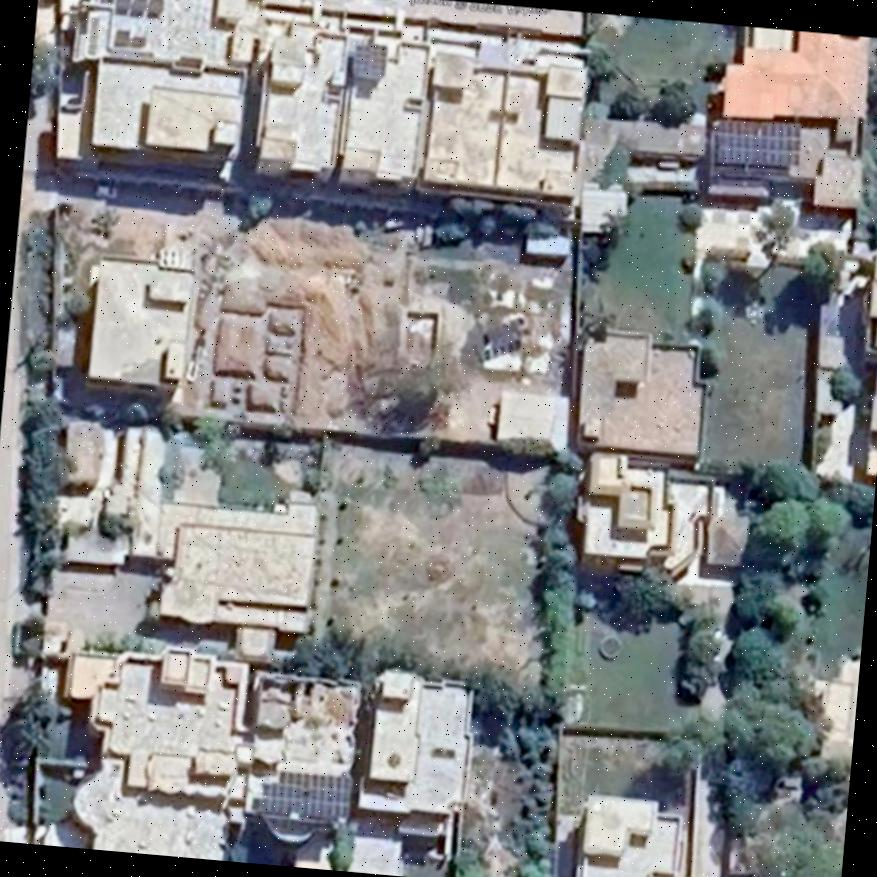Solarpanel: (256, 771, 350, 819), (718, 123, 799, 165), (350, 43, 386, 77)
